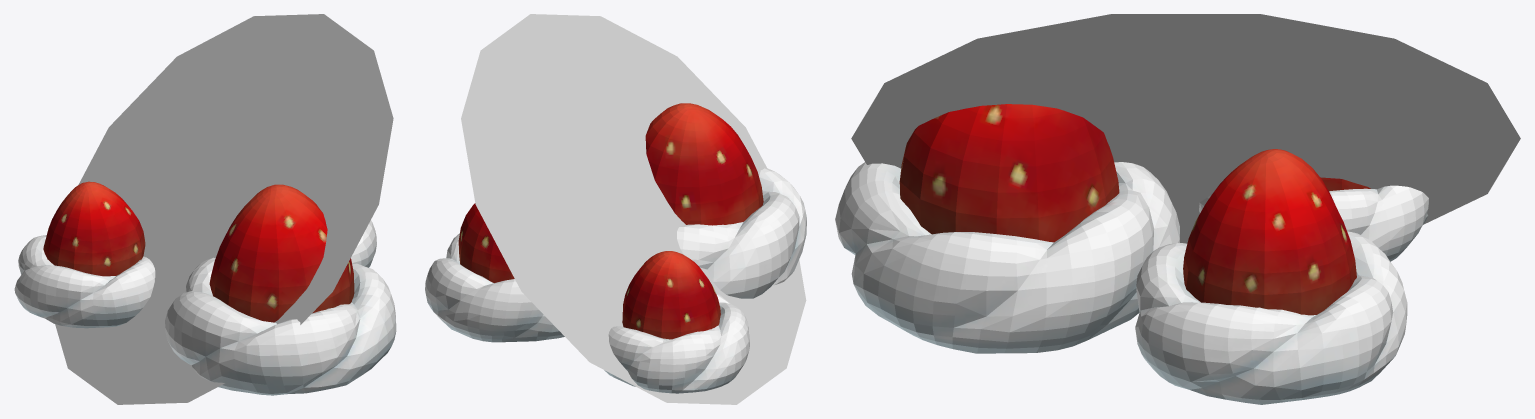
Rendered from pref_fx_kill_055701_lv2.fbx.
The picture shows the model from 3 angles, left to right: view 1: azimuth 30°, elevation 25°; view 2: azimuth 150°, elevation 25°; view 3: azimuth 270°, elevation 25°; orthographic projection. The views are drawn at different scales.
Visible parts, largest first — view 1: sm_glow_add, cake1, cake3, cake4; view 2: sm_glow_add, cake1, cake3, cake4; view 3: sm_glow_add, cake1, cake4, cake3.
Part boxes in pixels (x1=…): sm_glow_add: x1=55, y1=14, x2=393, y2=404; cake1: x1=165, y1=184, x2=396, y2=395; cake3: x1=14, y1=181, x2=155, y2=328; cake4: x1=351, y1=220, x2=376, y2=267; sm_glow_add: x1=461, y1=14, x2=806, y2=404; cake1: x1=645, y1=103, x2=806, y2=298; cake3: x1=604, y1=251, x2=749, y2=393; cake4: x1=425, y1=203, x2=564, y2=342; sm_glow_add: x1=851, y1=14, x2=1520, y2=243; cake1: x1=835, y1=104, x2=1179, y2=353; cake4: x1=1135, y1=149, x2=1407, y2=404; cake3: x1=1199, y1=177, x2=1428, y2=261.
Bounding box in the file's own units: 1.55 × 1.36 × 1.95.
